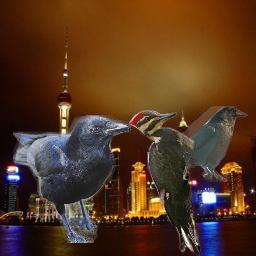Crow: (13, 115, 131, 243), (165, 106, 248, 182)
Woodpecker: (129, 110, 202, 256)
